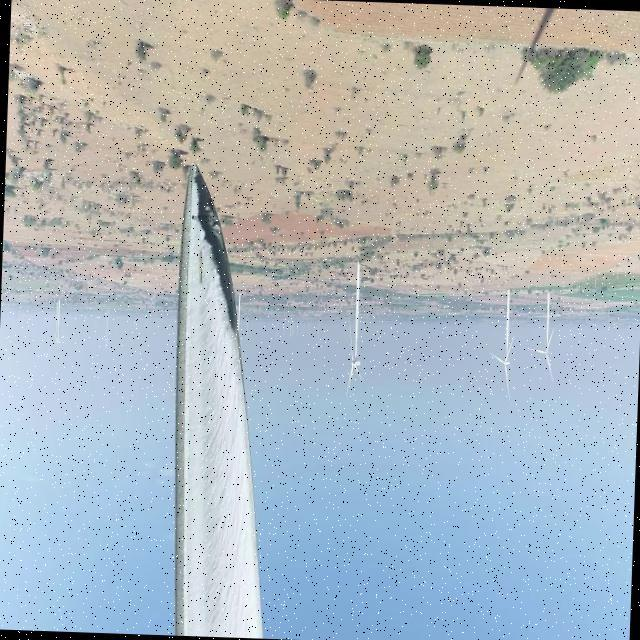Dirt: (176, 168, 267, 638)
Oil LEAKAGE: (193, 170, 239, 336)
Pin Hole: (187, 210, 199, 225)
